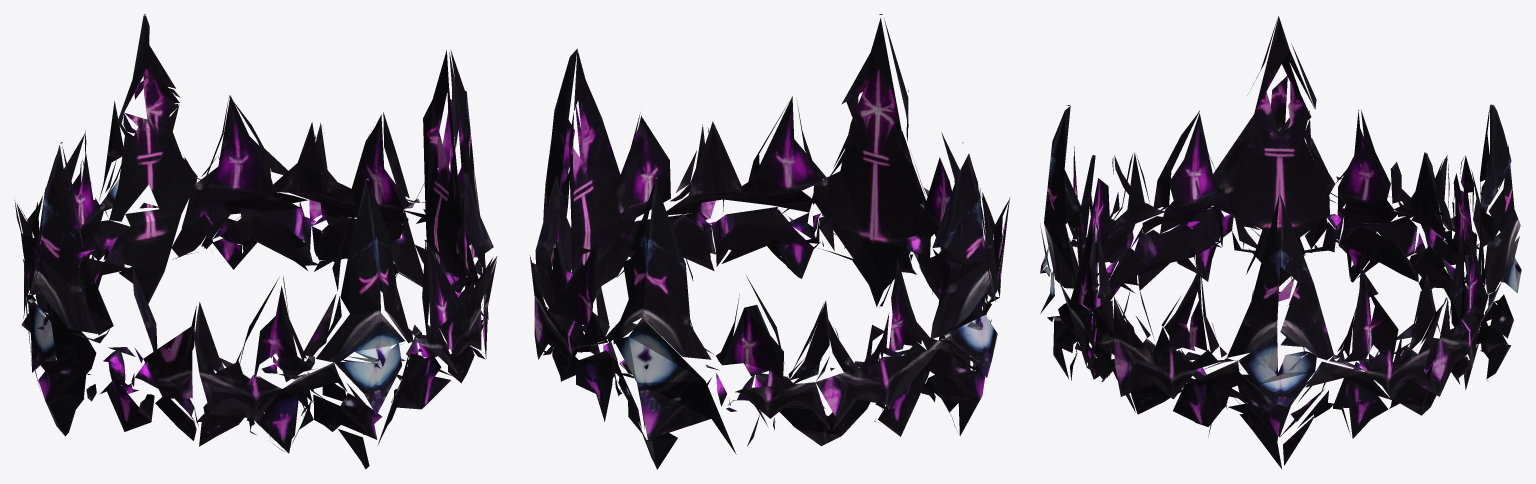
Rendered from hat_secret_lo.glb.
The picture shows the model from 3 angles, left to right: view 1: azimuth 30°, elevation 25°; view 2: azimuth 150°, elevation 25°; view 3: azimuth 270°, elevation 25°; orthographic projection. The views are drawn at different scales.
Visible parts, largest first — view 1: geometry_0; view 2: geometry_0; view 3: geometry_0.
Boxes of the visible parts, <box> form: geometry_0: <box>14,14,497,469</box>; geometry_0: <box>529,14,1010,469</box>; geometry_0: <box>1040,16,1521,468</box>.
Size of the model in its own units: 0.9988 by 0.6366 by 0.9988.
1 material, 1 textured.
